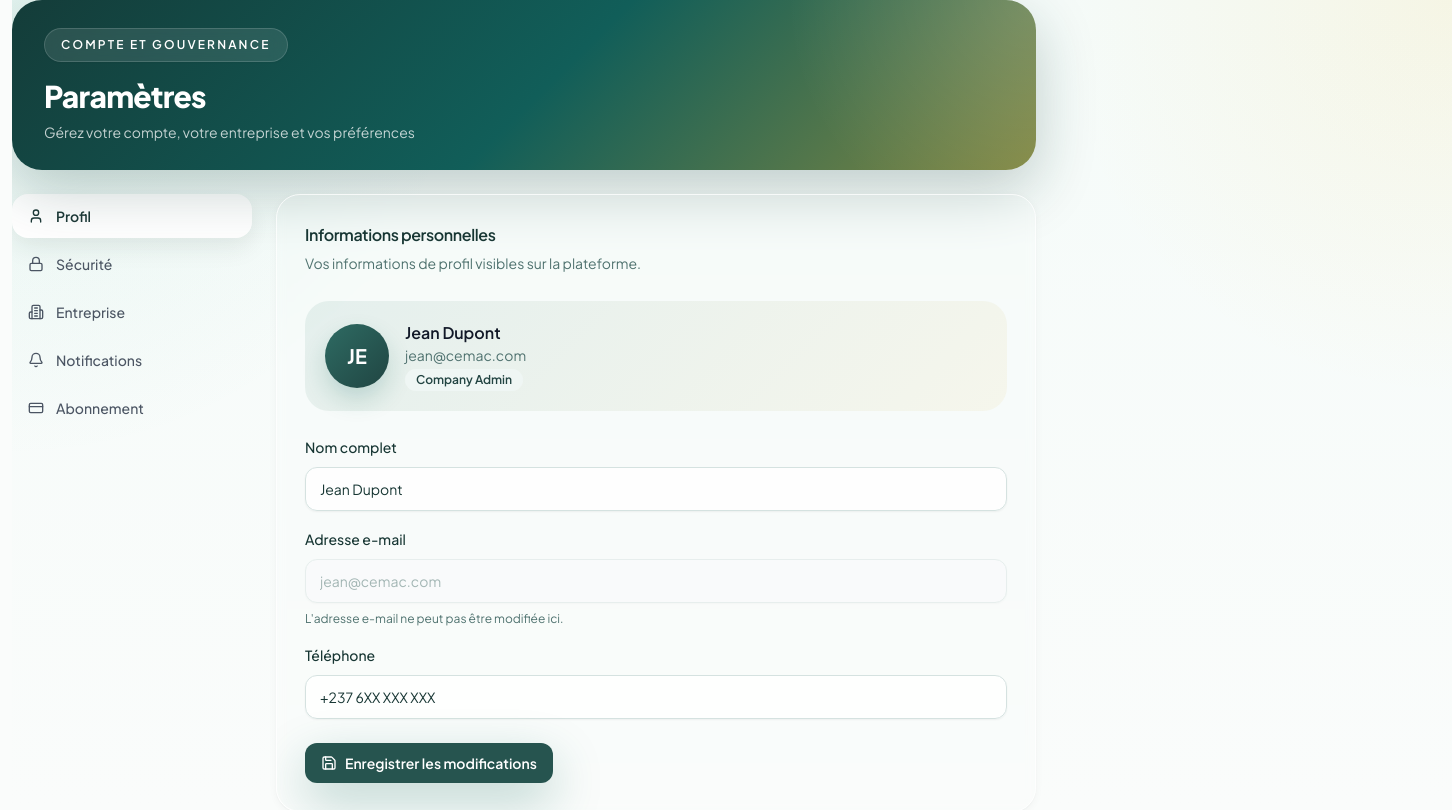
it: SettingsPage — company tab › shows company info form on clicking Entreprise
Click the button "Entreprise".
click(132, 312)  # box [12, 290, 252, 334]
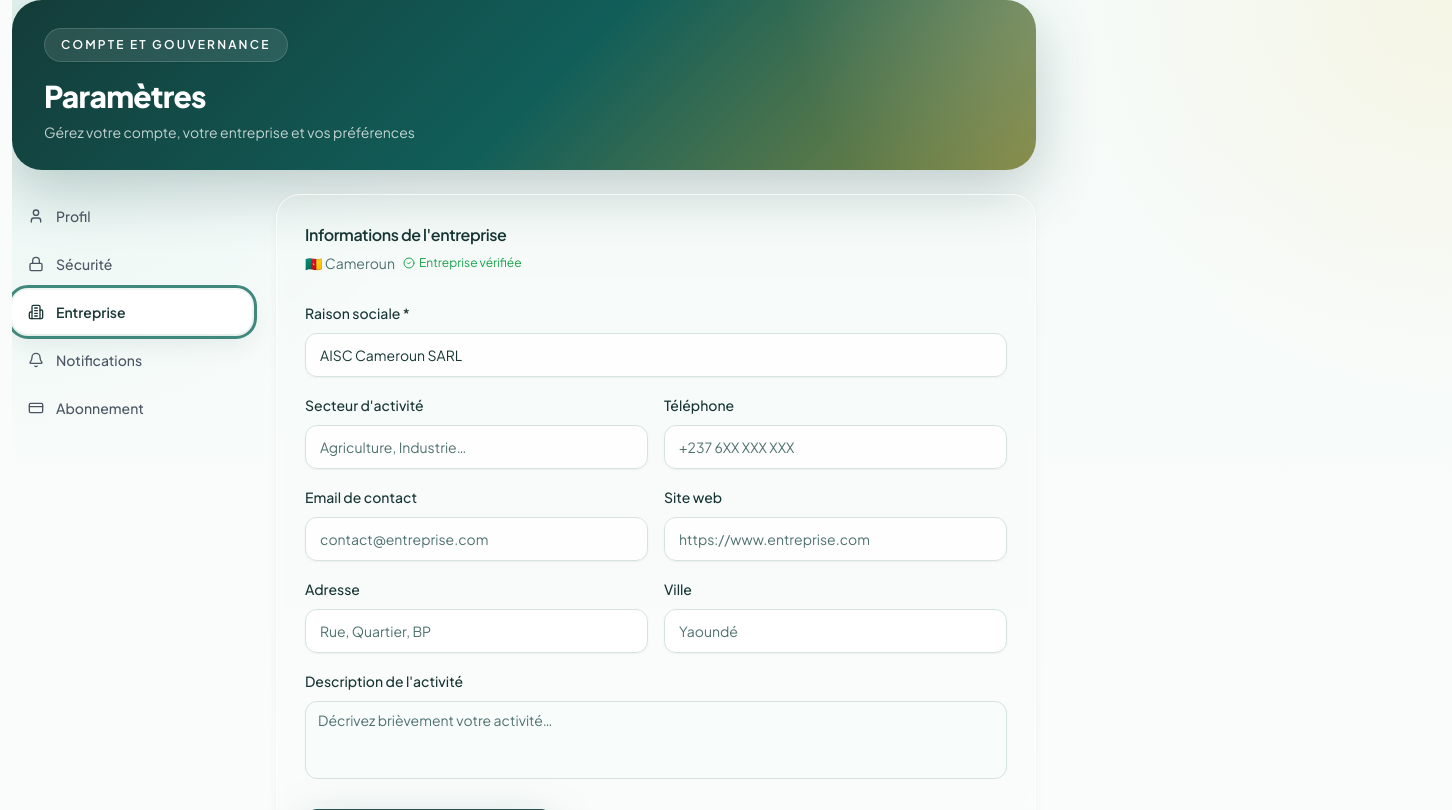
Now the field labelled "Raison sociale *" is shown, box [305, 333, 1007, 377]
